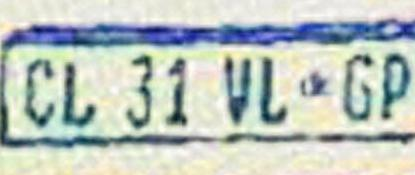1: (161, 52, 193, 129)
3: (122, 52, 157, 128)
C: (22, 55, 57, 126)
G: (341, 51, 376, 122)
L: (254, 52, 287, 127), (60, 58, 95, 125)
P: (377, 50, 410, 121)
V: (217, 53, 255, 126)
